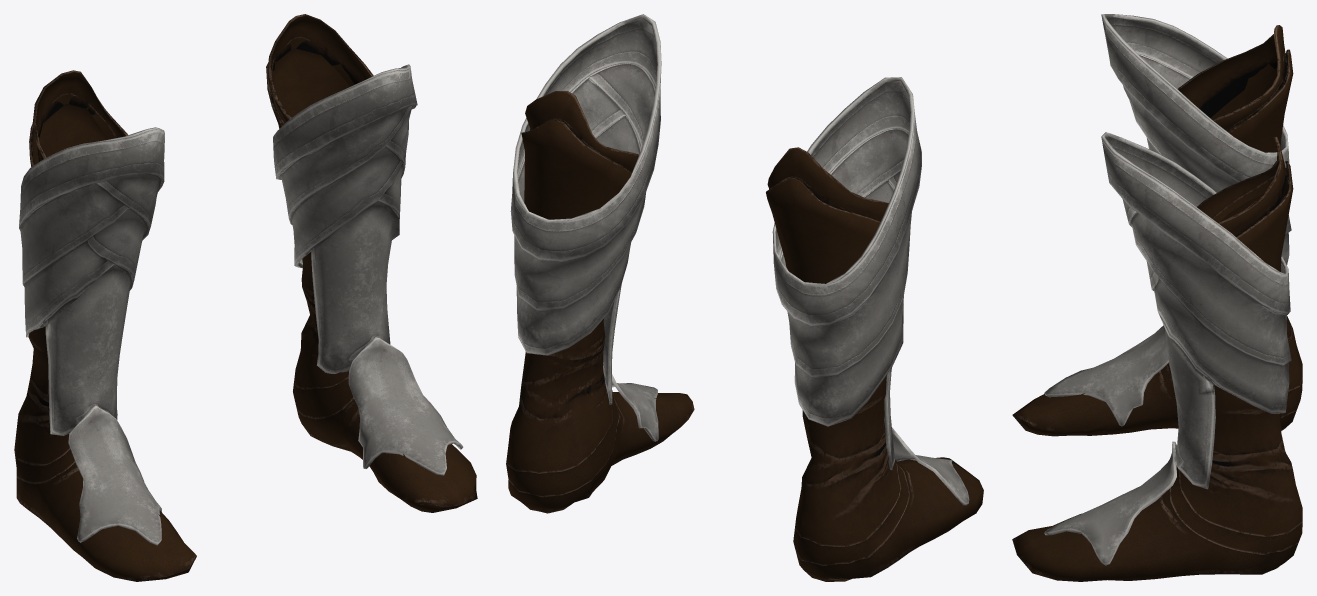
The model's file is rivendell_boots_greaves2_silver.fbx.
3 views of the same model, side by side, from view 1: azimuth 30°, elevation 25°; view 2: azimuth 150°, elevation 25°; view 3: azimuth 270°, elevation 25° (orthographic). The views are drawn at different scales.
Parts seen in each view (by area): view 1: rivendell_boots_greaves2_silver.1, rivendell_boots_greaves2_silver.0; view 2: rivendell_boots_greaves2_silver.1, rivendell_boots_greaves2_silver.0; view 3: rivendell_boots_greaves2_silver.1, rivendell_boots_greaves2_silver.0.
Boxes of the visible parts, x1,y1,x2,y2 form: rivendell_boots_greaves2_silver.1: [19, 64, 463, 545]; rivendell_boots_greaves2_silver.0: [14, 14, 477, 581]; rivendell_boots_greaves2_silver.1: [510, 14, 969, 505]; rivendell_boots_greaves2_silver.0: [506, 91, 983, 581]; rivendell_boots_greaves2_silver.1: [1044, 14, 1291, 565]; rivendell_boots_greaves2_silver.0: [1012, 25, 1302, 581].
Bounding box in the file's own units: 0.4573 × 0.2994 × 0.4779.
2 materials, 2 textured.
